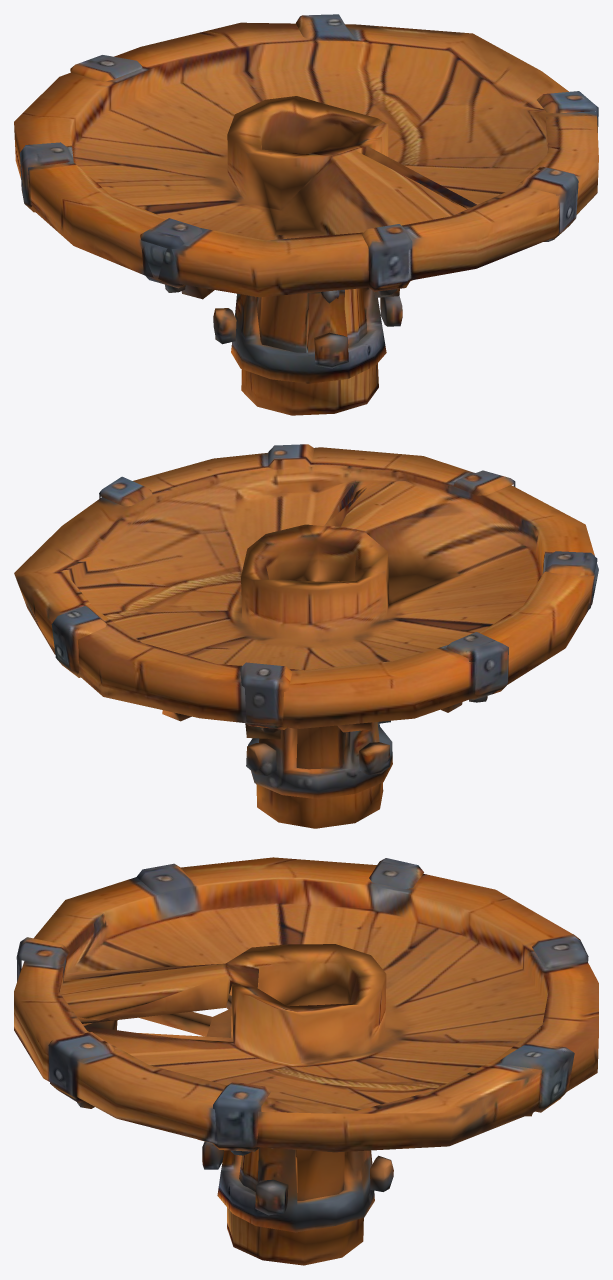
Rendered from mast_top.glb.
3 views of the same model, one above another, from view 1: azimuth 30°, elevation 25°; view 2: azimuth 150°, elevation 25°; view 3: azimuth 270°, elevation 25° (orthographic). The views are drawn at different scales.
Parts seen in each view (by area): view 1: mast_top; view 2: mast_top; view 3: mast_top.
Boxes of the visible parts, <box> form: mast_top: <box>14,14,598,415</box>; mast_top: <box>14,444,598,828</box>; mast_top: <box>14,857,598,1265</box>.
Bounding box in the file's own units: 2.6 × 1.3 × 2.58.
Materials: 1 (1 with a texture image).
